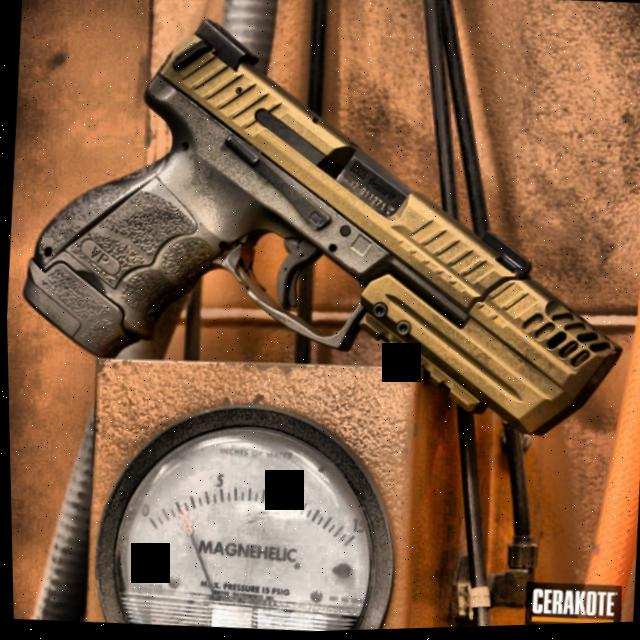HKVP9: (9, 0, 636, 442)
